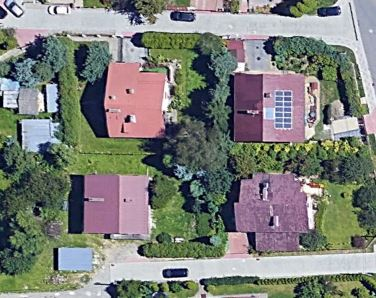family house: (231, 168, 317, 255), (101, 59, 178, 143), (231, 68, 312, 146), (79, 171, 159, 239)
